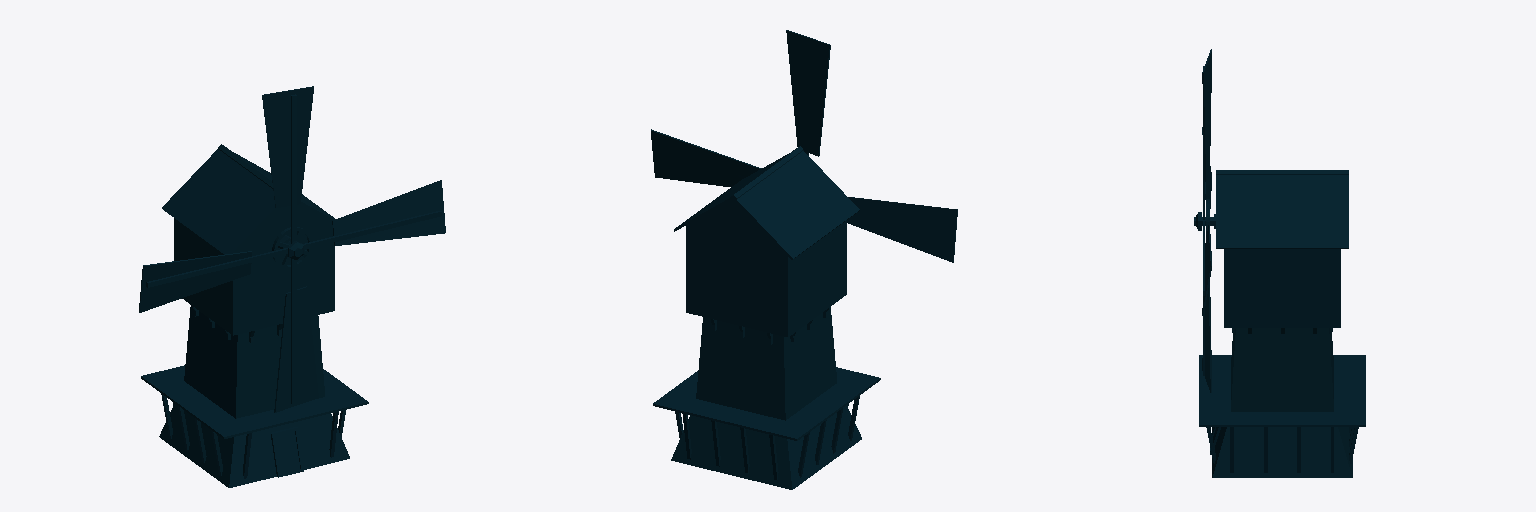
The model's file is windmill.obj.
The picture shows the model from 3 angles: view 1: azimuth 30°, elevation 25°; view 2: azimuth 150°, elevation 25°; view 3: azimuth 270°, elevation 25°; orthographic projection.
Visible parts, largest first — view 1: Wind_Mill_Cube; view 2: Wind_Mill_Cube; view 3: Wind_Mill_Cube.
Part boxes in pixels (left/top/right/bottom): Wind_Mill_Cube: left=139, top=86, right=445, bottom=487; Wind_Mill_Cube: left=651, top=30, right=957, bottom=489; Wind_Mill_Cube: left=1194, top=49, right=1365, bottom=477.
Bounding box in the file's own units: 7.59 × 9.25 × 3.74.